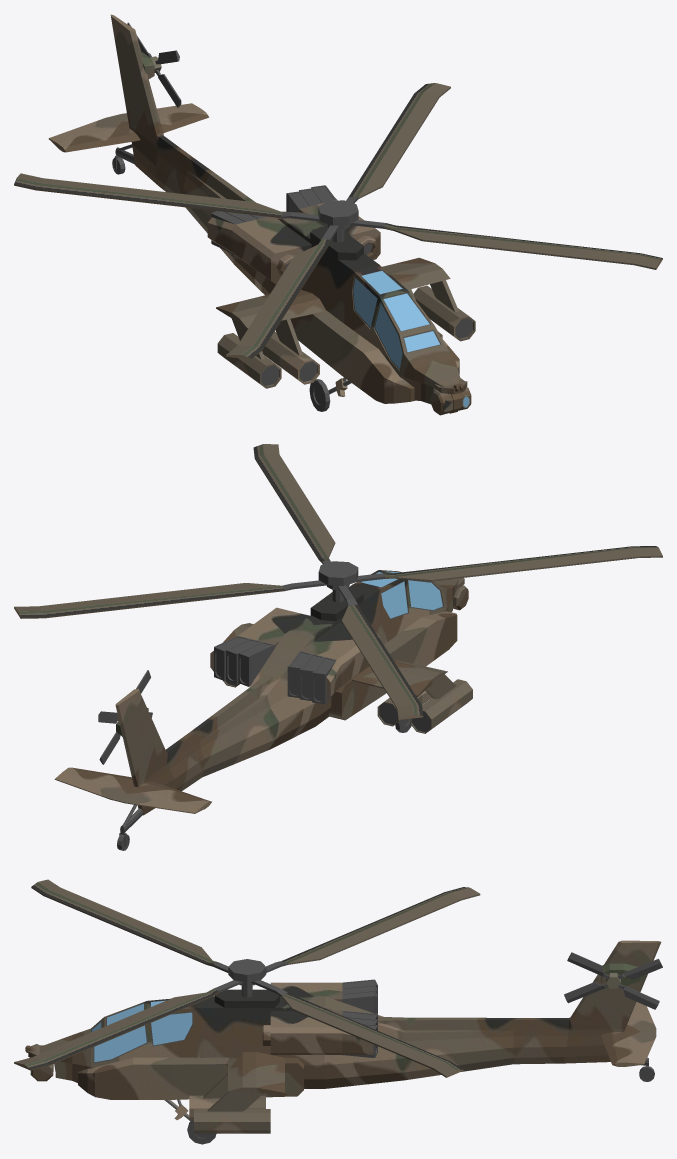
Rendered from apache.gltf.
3 renders of one model, top to bottom at view 1: azimuth 30°, elevation 25°; view 2: azimuth 150°, elevation 25°; view 3: azimuth 270°, elevation 25°, orthographic. The views are drawn at different scales.
Parts seen in each view (by area): view 1: Cube_14, Cube.009_0, Cube.001_8, Cube.007_10, Cube.005_9, Circle_1, Cube.003_11, Cube.002_4; view 2: Cube_14, Cube.009_0, Cube.001_8, Cube.005_9, Cube.007_10, Circle_1, Cube.003_11; view 3: Cube_14, Cube.009_0, Cube.001_8, Cube.007_10, Cube.003_11, Cube.005_9, Circle_1, Plane_13.
Part boxes in pixels (<box>): Cube_14: <box>48,14,475,404</box>; Cube.009_0: <box>14,83,662,359</box>; Cube.001_8: <box>290,310,459,411</box>; Cube.007_10: <box>207,198,380,283</box>; Cube.005_9: <box>211,185,336,253</box>; Circle_1: <box>318,200,358,242</box>; Cube.003_11: <box>127,22,181,107</box>; Cube.002_4: <box>430,387,471,415</box>; Cube_14: <box>54,570,472,815</box>; Cube.009_0: <box>14,444,662,719</box>; Cube.001_8: <box>329,611,457,732</box>; Cube.005_9: <box>214,636,336,704</box>; Cube.007_10: <box>210,607,379,699</box>; Circle_1: <box>318,561,358,602</box>; Cube.003_11: <box>98,670,152,764</box>; Cube_14: <box>39,940,661,1133</box>; Cube.009_0: <box>14,879,480,1077</box>; Cube.001_8: <box>78,1057,303,1144</box>; Cube.007_10: <box>262,982,373,1054</box>; Cube.003_11: <box>564,952,662,1009</box>; Cube.005_9: <box>342,979,377,1057</box>; Circle_1: <box>228,959,266,997</box>; Plane_13: <box>600,963,645,985</box>.
Bounding box in the file's own units: 2.19 × 0.947 × 3.05.
Materials: 4 (1 with a texture image).
